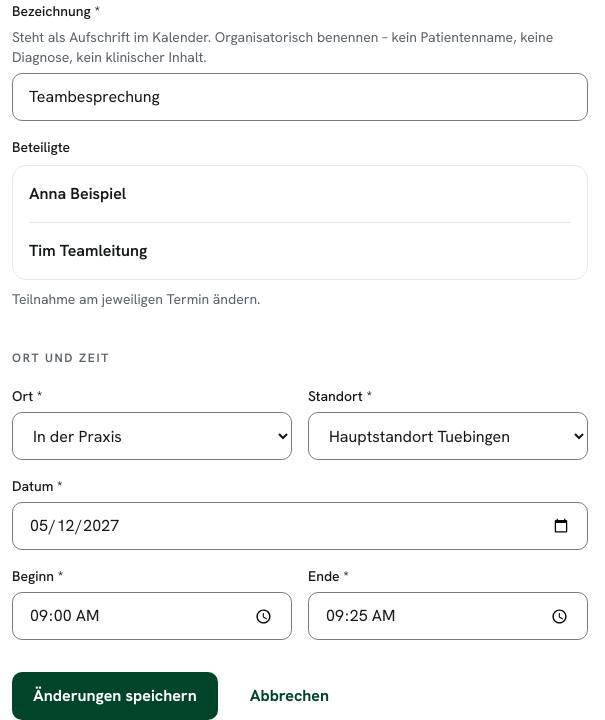
Test: EditEventPage › nennt den laufenden Vorgang wie beim Termin (WRT-10)
(page scrolled)
Expected: the field labelled "Bezeichnung *" is shown, [12,73,588,121]
What coordinates should you click on to do the following:
click the button "Änderungen speichern"
I would click on:
 (115, 696)
Its box is [12,672,218,719].
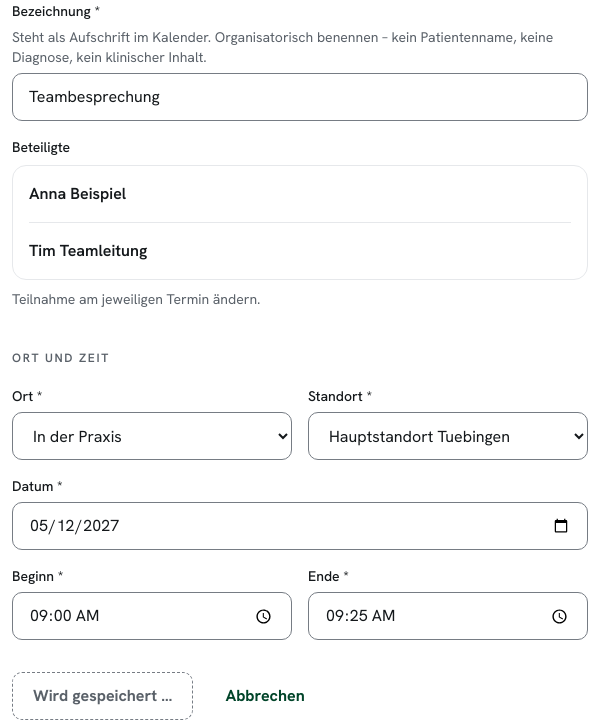
Result: the button "Wird gespeichert …" is disabled at [12,672,193,719]
